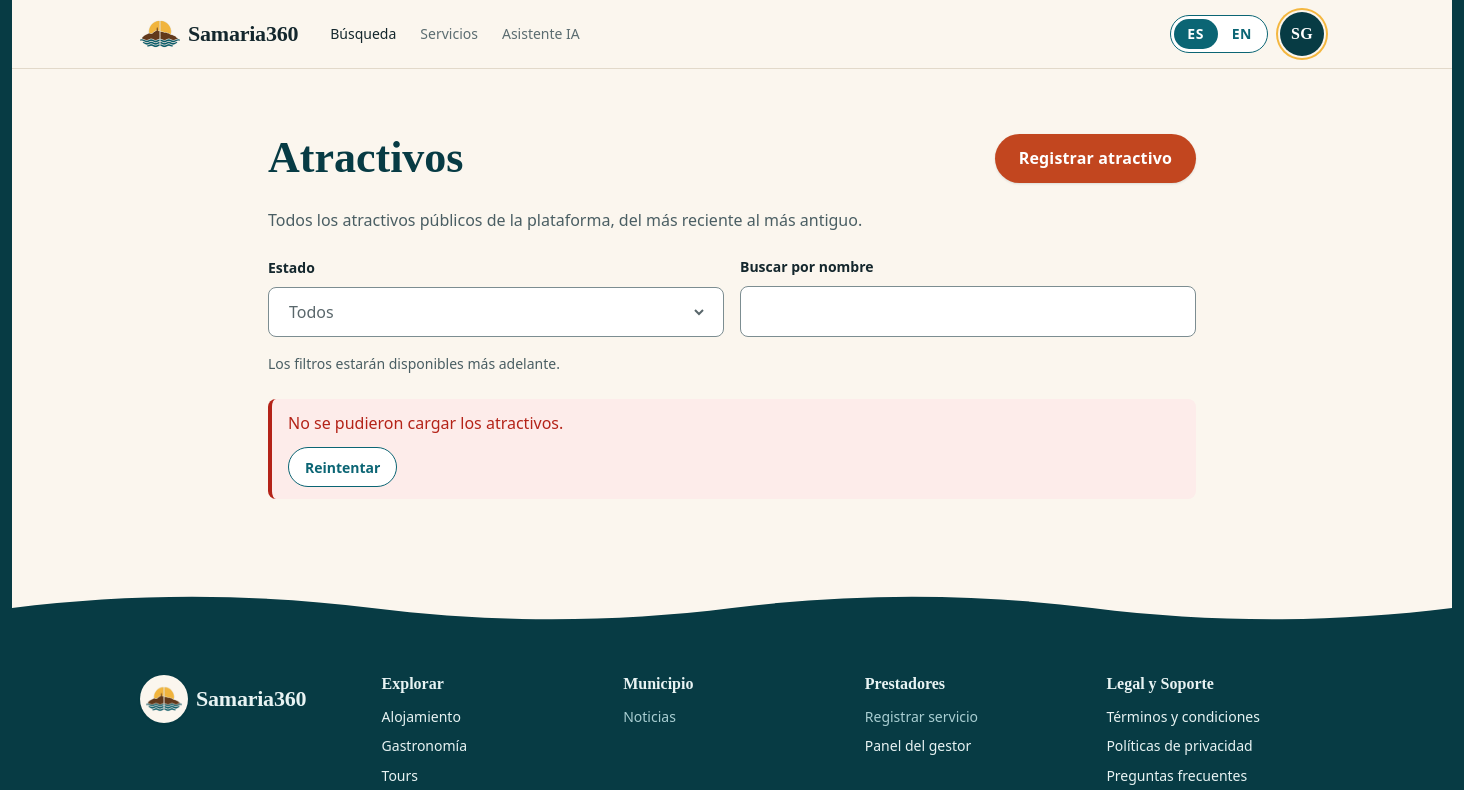
it: WF-24 «Atractivos» (panel del gestor) › sin atractivos, lo dice; un error ofrece «Reintentar»
The image size is (1464, 790).
What coordinates should you click on to do the following:
click the button "Reintentar"
I would click on:
 (343, 467)
Its box is [288,447,397,487].
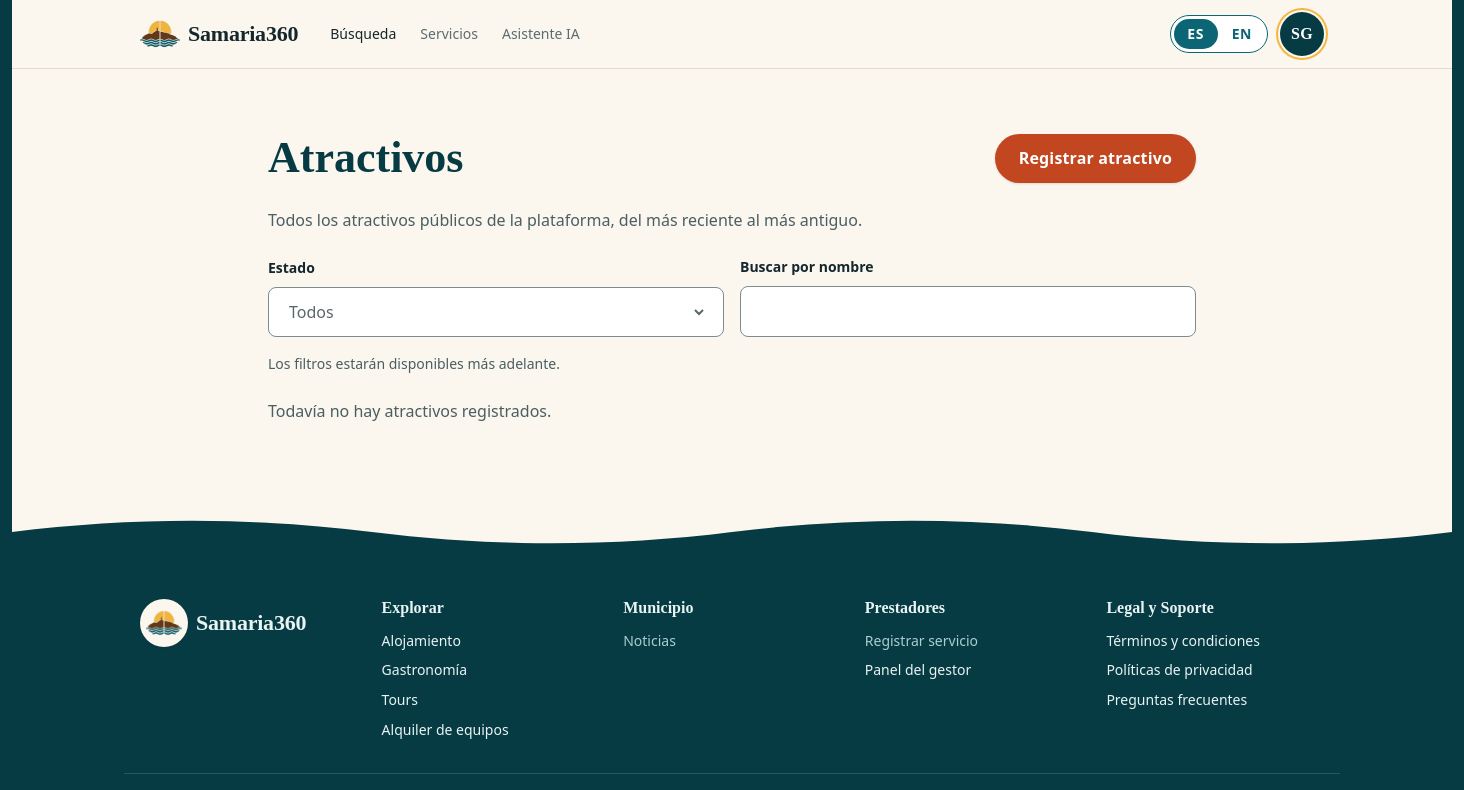
Now the text "Todavía no hay atractivos registrados." is shown, box [268,400,551,422]
